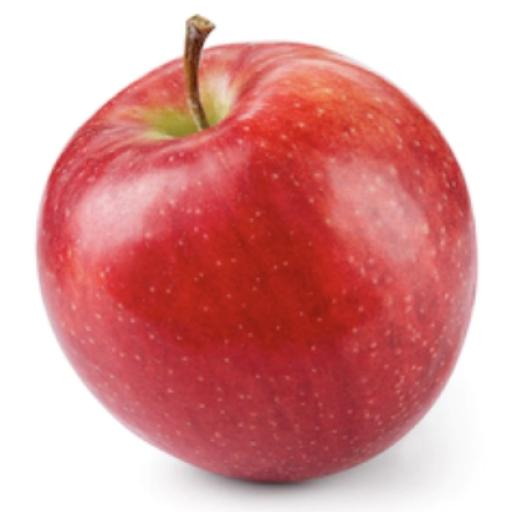apple: (38, 43, 475, 481)
